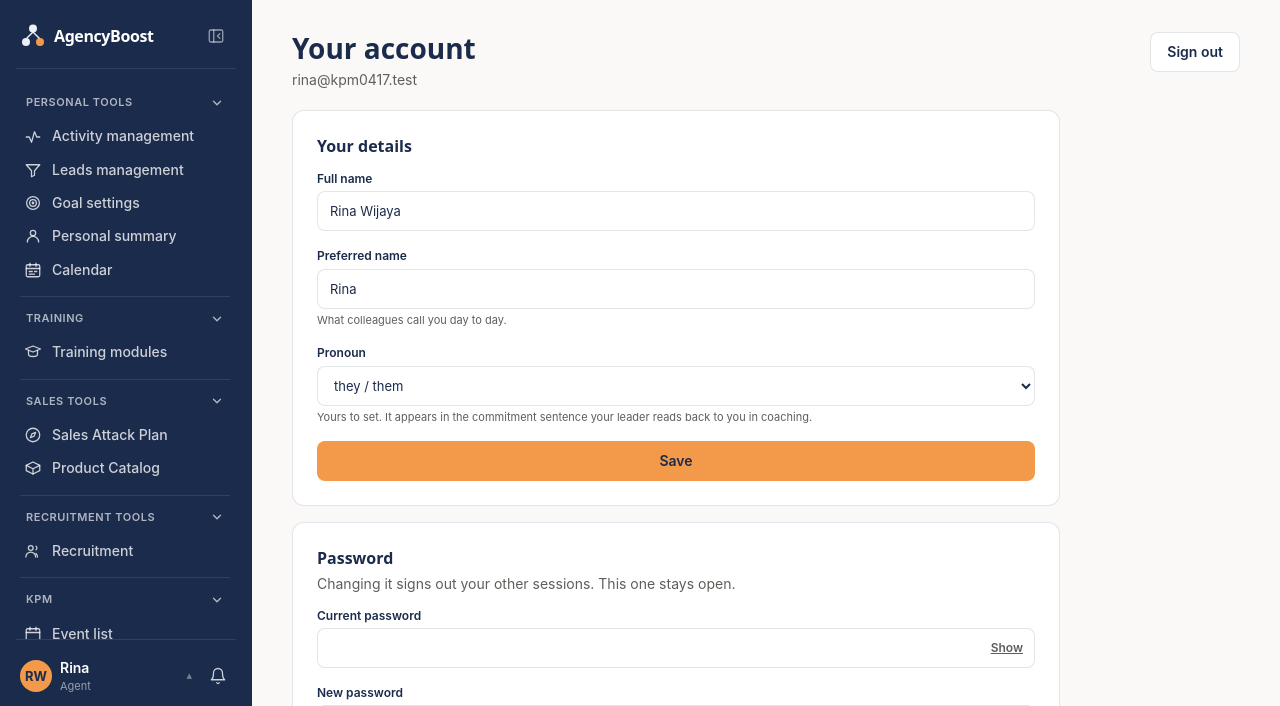
Test case: profile › surfaces a rejected profile save instead of a silent no-op
Type "x" into the field labelled "Full name" at (676, 212), box [317,192,1035,232]
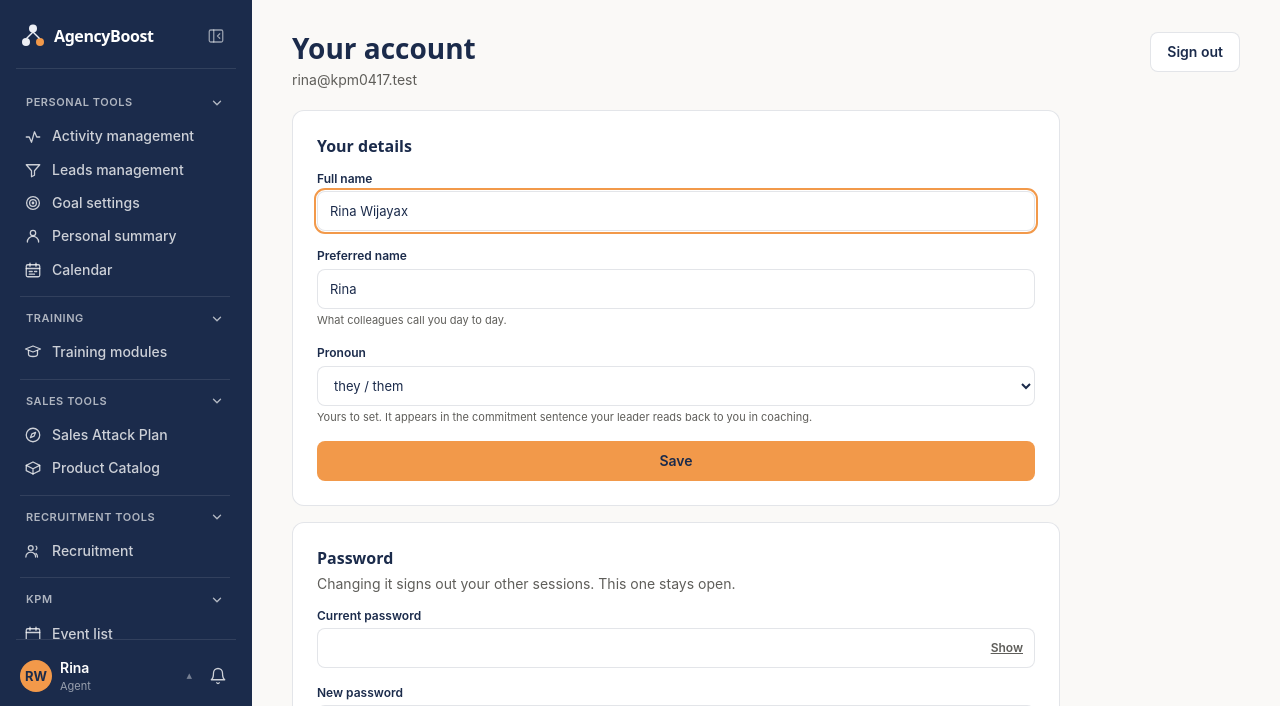
Click the button "Save" at (676, 461), box [317,441,1035,481]
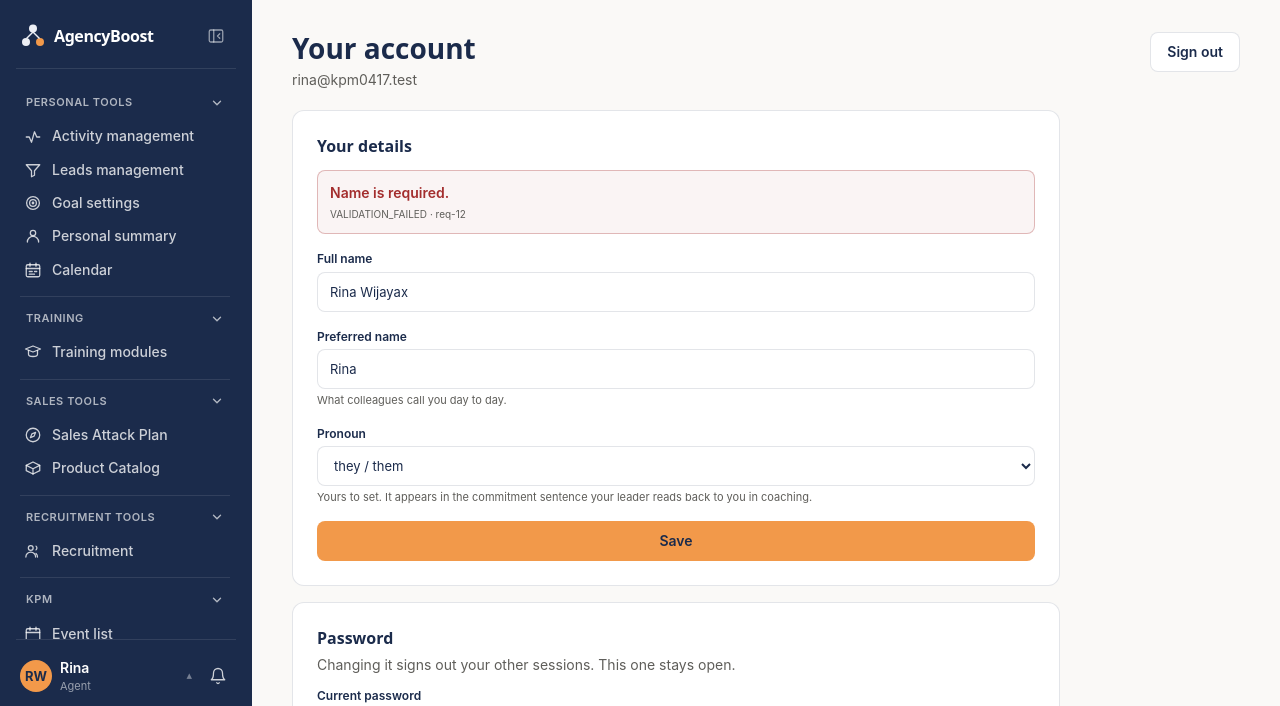
Expected: the message shows "Name is required.", [330,184,449,201]
